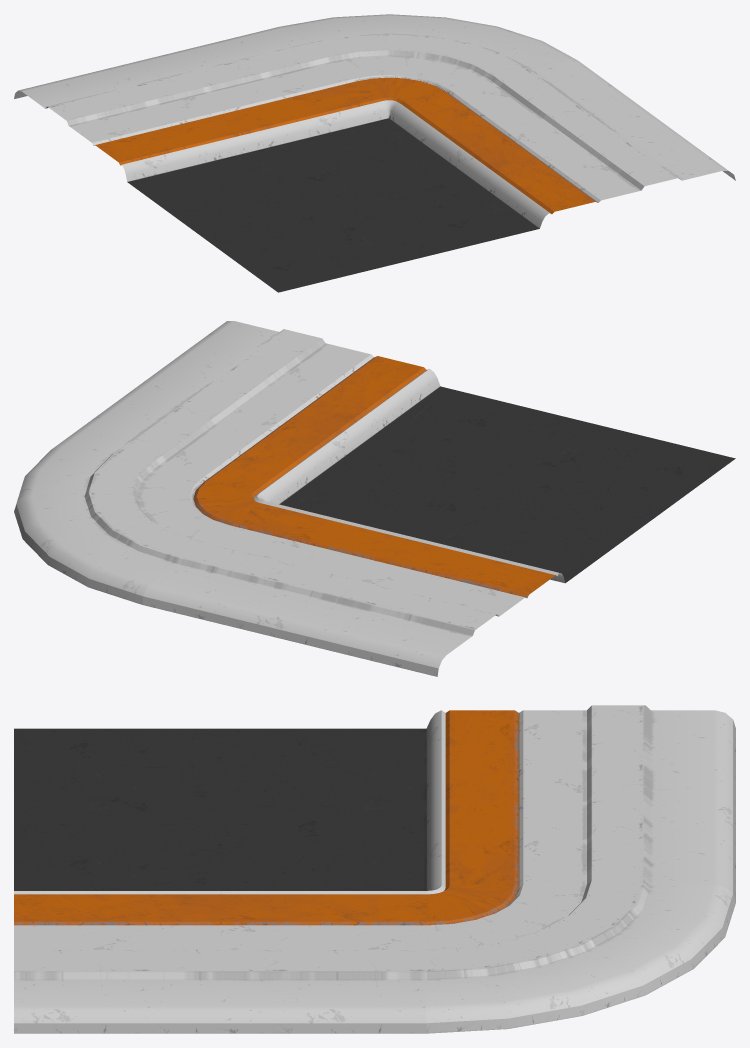
Rendered from Floor_FullSideCorner.fbx.
3 views of the same model, one above another, from view 1: azimuth 30°, elevation 25°; view 2: azimuth 150°, elevation 25°; view 3: azimuth 270°, elevation 25° (orthographic). The views are drawn at different scales.
Parts seen in each view (by area): view 1: Floor_FullSideCorner; view 2: Floor_FullSideCorner; view 3: Floor_FullSideCorner.
Part boxes in pixels (x1,y1,x2,y2): Floor_FullSideCorner: (14,14,735,292); Floor_FullSideCorner: (14,321,735,676); Floor_FullSideCorner: (14,705,735,1033).
Size of the model in its own units: 3.71 by 0.1315 by 3.71.
